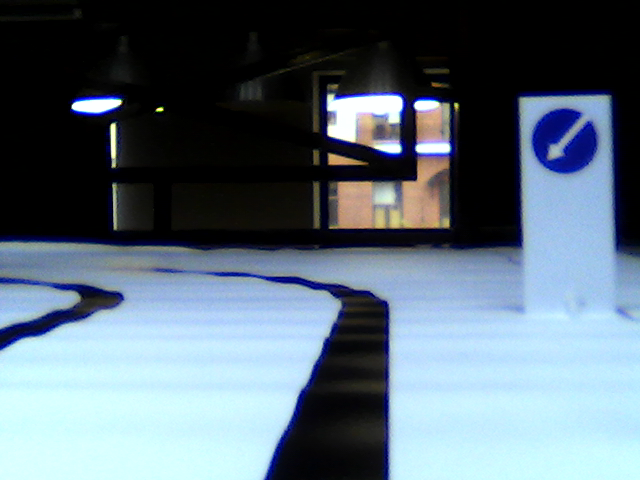prep: (531, 108, 599, 173)
